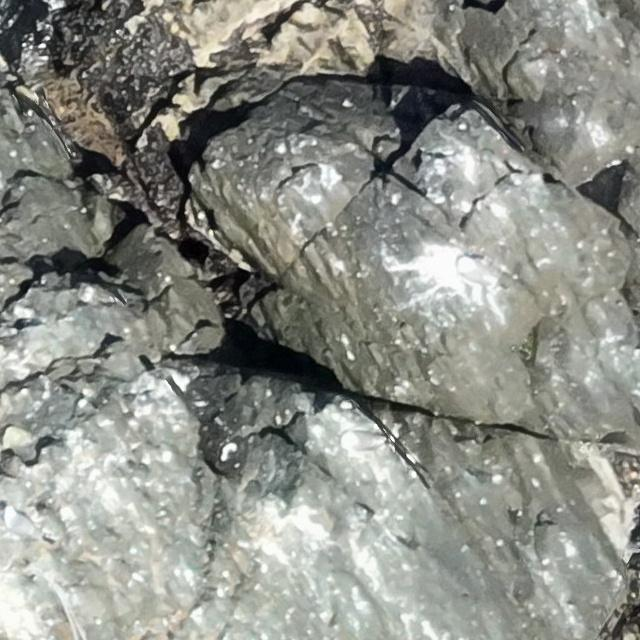umineko: (456, 255, 503, 289), (341, 434, 391, 451)
